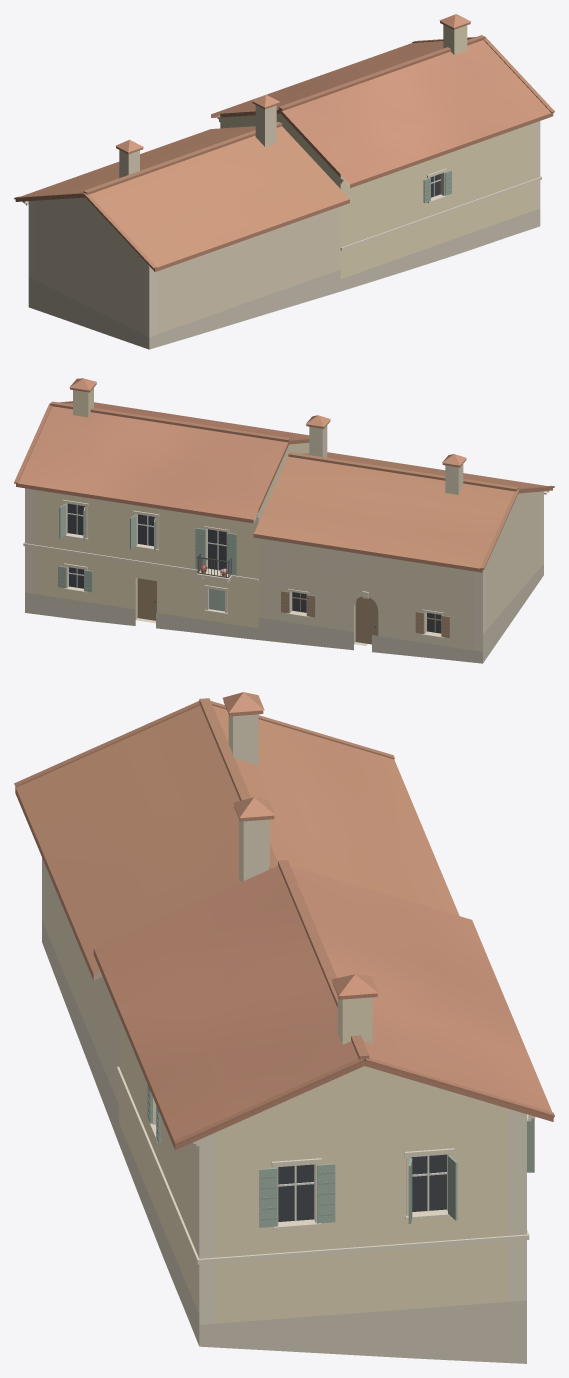
File: SM_BM_BVV_Farm_Ulivi.glb
3 views of the same model, one above another, from view 1: azimuth 30°, elevation 25°; view 2: azimuth 150°, elevation 25°; view 3: azimuth 270°, elevation 25° (orthographic). The views are drawn at different scales.
Visible parts, largest first — view 1: SM_BM_BVV_Farm_Ulivi; view 2: SM_BM_BVV_Farm_Ulivi; view 3: SM_BM_BVV_Farm_Ulivi.
Part boxes in pixels (x1=…): SM_BM_BVV_Farm_Ulivi: x1=14, y1=14, x2=554, y2=349; SM_BM_BVV_Farm_Ulivi: x1=14, y1=378, x2=554, y2=663; SM_BM_BVV_Farm_Ulivi: x1=14, y1=692, x2=554, y2=1363.
Bounding box in the file's own units: 26.57 × 11.3 × 14.64.
